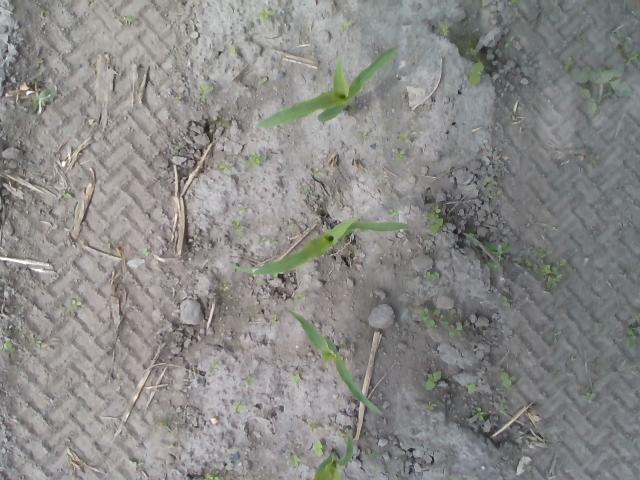Maize: (257, 43, 405, 130), (232, 211, 416, 278), (280, 304, 383, 420), (309, 432, 357, 480)
Weeds: (558, 56, 636, 114), (610, 30, 640, 64), (484, 241, 514, 273), (537, 260, 567, 290), (414, 304, 444, 326), (422, 366, 446, 392), (422, 206, 444, 234), (620, 326, 640, 352), (498, 368, 519, 389), (253, 232, 280, 248), (446, 321, 466, 341), (468, 63, 486, 84), (32, 88, 52, 106), (0, 336, 18, 353), (198, 80, 215, 98), (257, 6, 277, 21), (230, 218, 248, 234), (285, 453, 303, 469), (424, 266, 442, 282), (312, 438, 326, 458), (248, 152, 264, 168), (472, 408, 489, 422), (393, 146, 408, 161), (417, 400, 438, 410), (217, 160, 234, 172), (437, 22, 451, 36), (231, 399, 247, 411), (303, 422, 321, 432), (583, 389, 599, 400), (204, 471, 223, 480), (466, 380, 478, 394), (288, 370, 300, 382), (123, 14, 136, 24), (70, 298, 82, 308), (243, 376, 256, 384), (388, 208, 400, 216)
